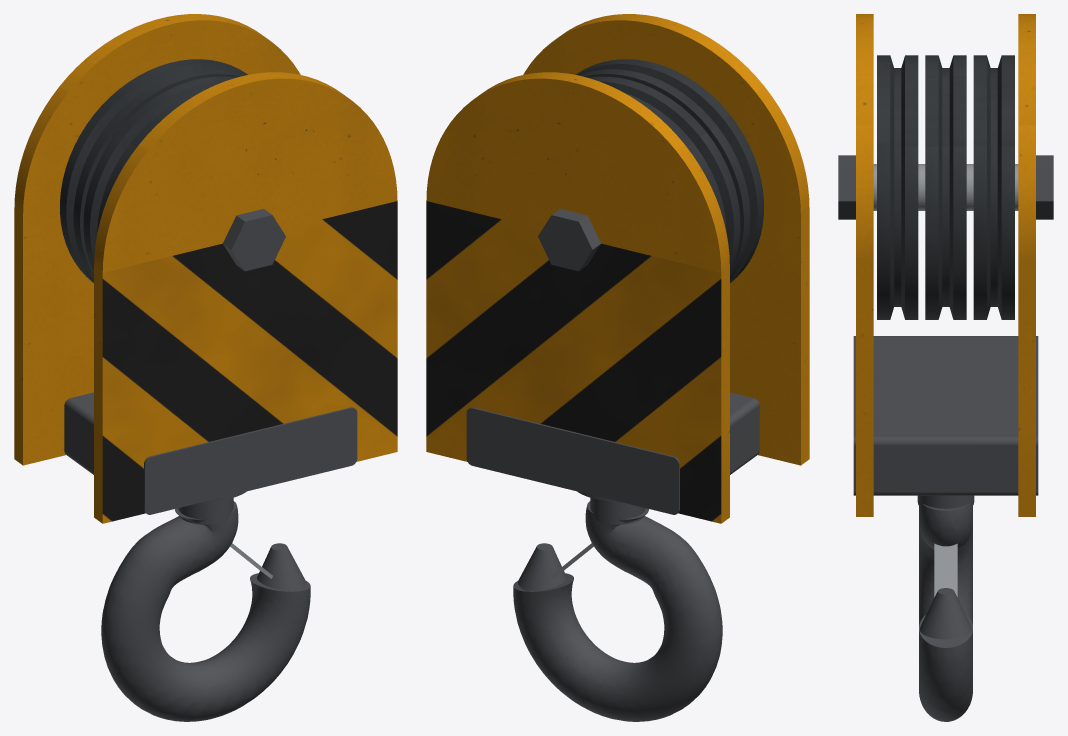
File: crane-hook-block.glb
3 views of the same model, side by side, from view 1: azimuth 30°, elevation 25°; view 2: azimuth 150°, elevation 25°; view 3: azimuth 270°, elevation 25° (orthographic). The views are drawn at different scales.
Parts seen in each view (by area): view 1: Side plate left, Side plate right, Hook body, Crosshead, Sheave 3, Sheave 2, Pin nut left, Hook point, Hook shank; view 2: Side plate right, Side plate left, Hook body, Crosshead, Sheave 1, Sheave 2, Pin nut right, Hook point, Hook shank; view 3: Crosshead, Sheave 2, Sheave 1, Sheave 3, Side plate left, Side plate right, Hook body, Hook point, Pin nut left, Pin nut right, Sheave pin, Safety latch (+1 smaller).
Boxes of the visible parts, x1=… form: Side plate left: x1=94, y1=72, x2=397, y2=523; Side plate right: x1=14, y1=14, x2=300, y2=465; Hook body: x1=101, y1=501, x2=310, y2=721; Crosshead: x1=64, y1=392, x2=357, y2=514; Sheave 3: x1=60, y1=59, x2=247, y2=282; Sheave 2: x1=83, y1=76, x2=235, y2=270; Pin nut left: x1=223, y1=209, x2=285, y2=271; Hook point: x1=257, y1=543, x2=305, y2=591; Hook shank: x1=178, y1=498, x2=233, y2=524; Side plate right: x1=426, y1=72, x2=729, y2=523; Side plate left: x1=523, y1=14, x2=809, y2=465; Hook body: x1=513, y1=501, x2=722, y2=721; Crosshead: x1=466, y1=392, x2=759, y2=514; Sheave 1: x1=576, y1=59, x2=763, y2=282; Sheave 2: x1=588, y1=76, x2=740, y2=270; Pin nut right: x1=538, y1=209, x2=600, y2=271; Hook point: x1=518, y1=543, x2=566, y2=591; Hook shank: x1=590, y1=498, x2=645, y2=524; Crosshead: x1=853, y1=336, x2=1038, y2=495; Sheave 2: x1=925, y1=55, x2=966, y2=319; Sheave 1: x1=877, y1=55, x2=918, y2=319; Sheave 3: x1=973, y1=55, x2=1014, y2=319; Side plate left: x1=856, y1=14, x2=873, y2=516; Side plate right: x1=1018, y1=14, x2=1035, y2=516; Hook body: x1=919, y1=503, x2=972, y2=721; Hook point: x1=920, y1=588, x2=971, y2=639; Pin nut left: x1=838, y1=155, x2=855, y2=219; Pin nut right: x1=1036, y1=155, x2=1053, y2=219; Sheave pin: x1=873, y1=164, x2=1018, y2=210; Safety latch: x1=934, y1=543, x2=957, y2=597.
Size of the model in its own units: 0.59 by 1.28 by 0.366.
Materials: 5 (5 with a texture image).
